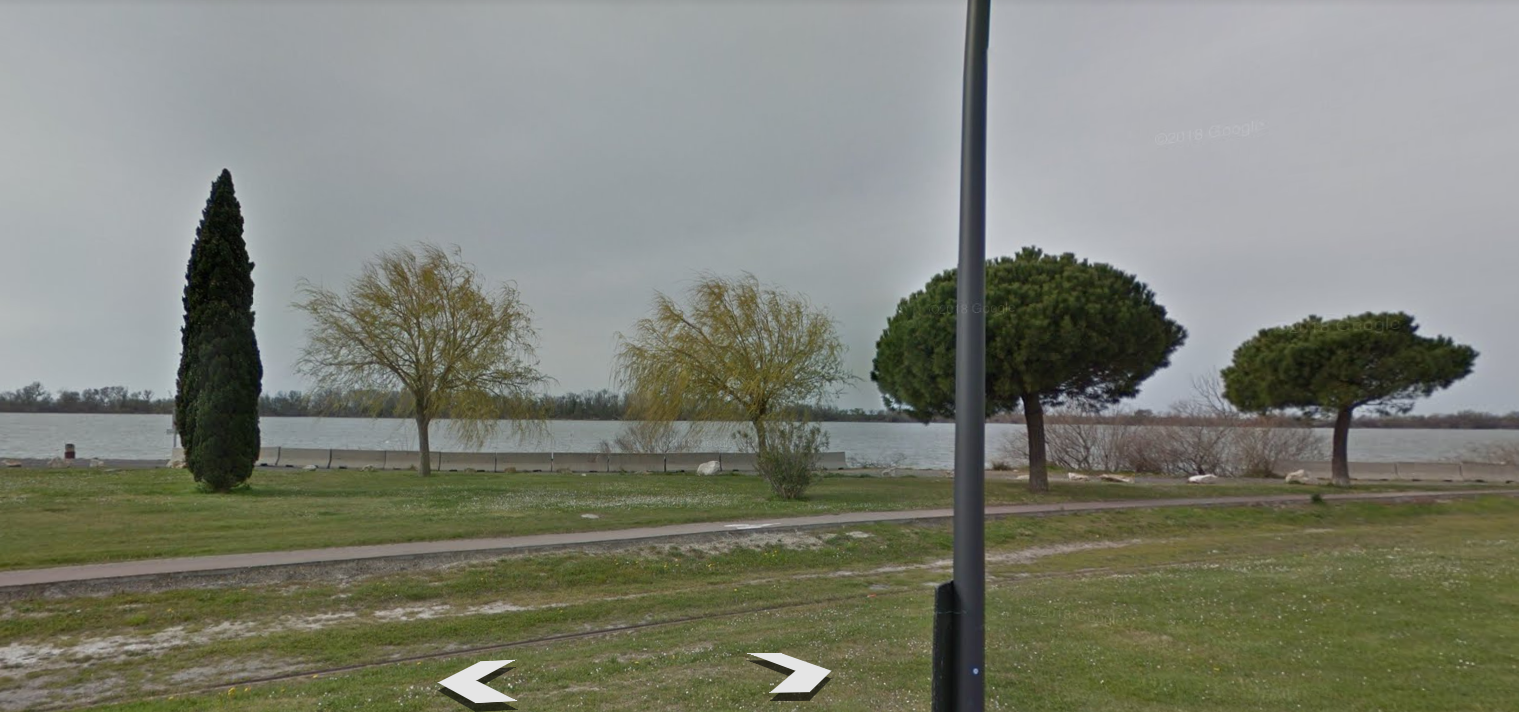Tree: (887, 251, 1185, 495), (1209, 307, 1482, 529), (315, 247, 536, 489), (617, 276, 857, 493), (170, 158, 265, 486)
